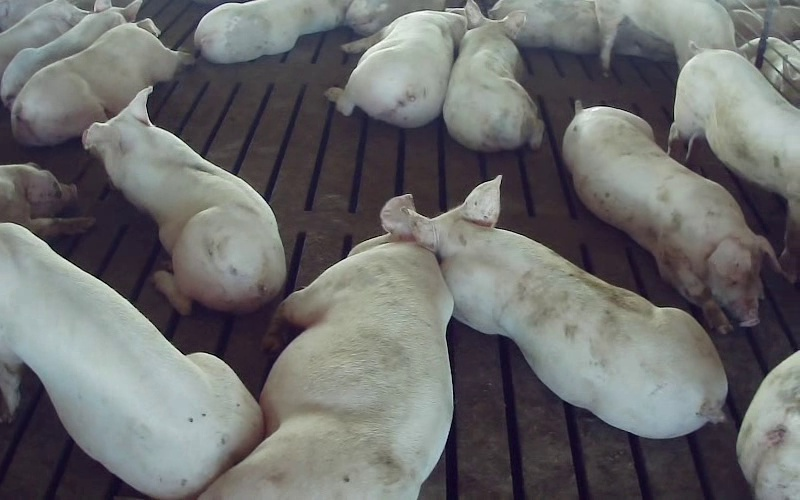pig: (200, 195, 452, 499), (563, 102, 778, 332), (84, 87, 284, 313), (669, 49, 799, 281), (11, 19, 193, 145), (326, 11, 466, 127), (443, 0, 543, 151), (595, 0, 735, 74), (194, 0, 350, 63)
